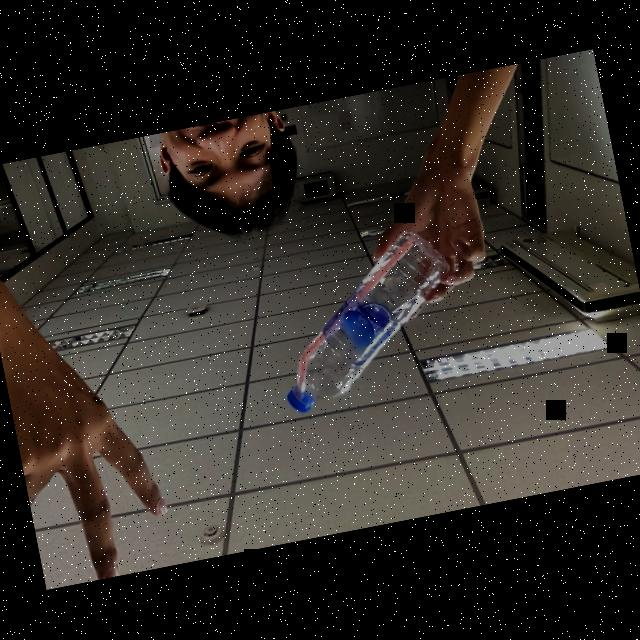plastic_bottle: (253, 219, 489, 424)
plastic_bottle_cap: (285, 382, 321, 417)
